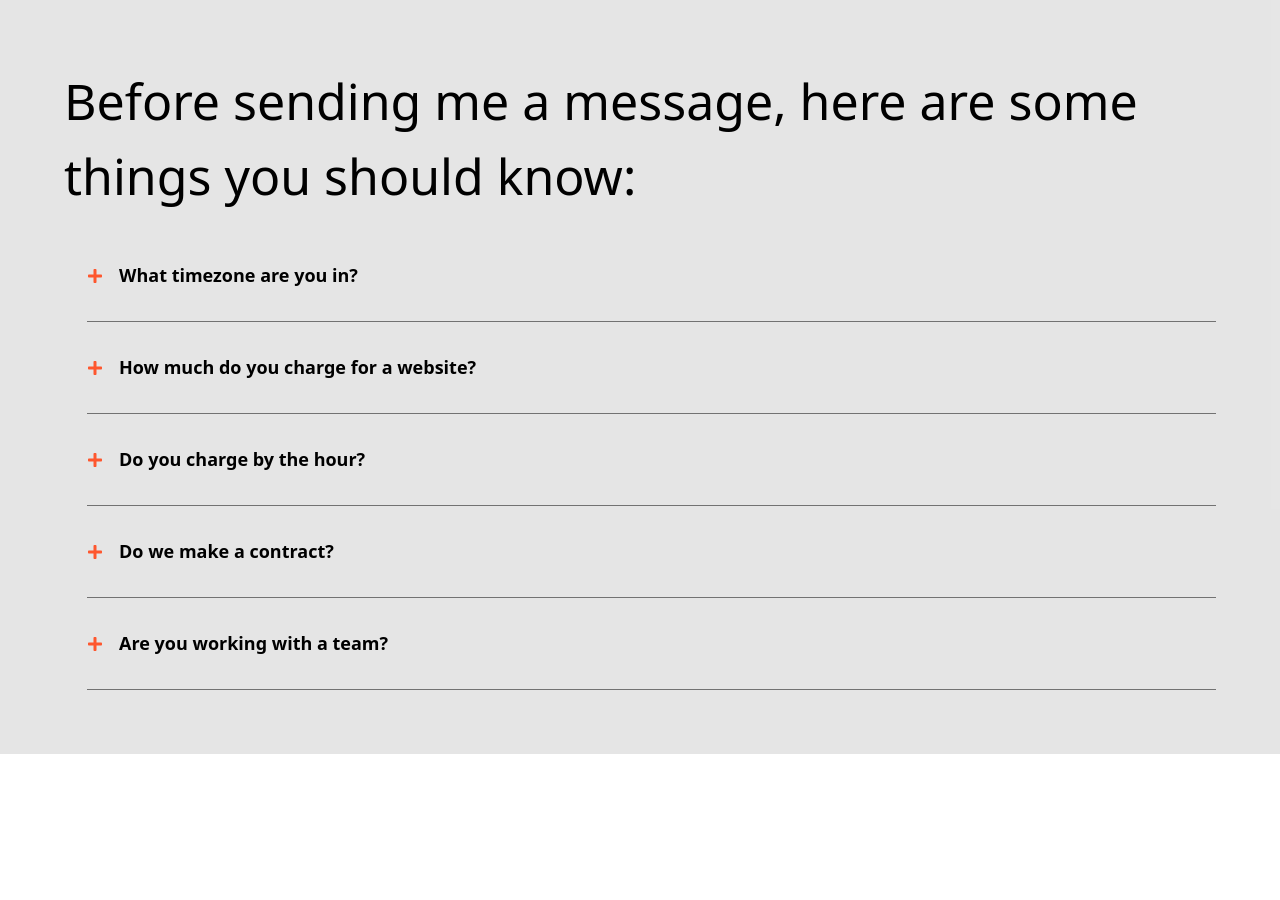
Test: FQA Component › should toggle answer on question click
This screenshot has width=1280, height=900.
Expected: the text "My pricing varies" is not shown
// Simulate click to open the answer
Click the text "How much do you charge for a website?".
click(298, 368)  # box 119,354 -> 476,381
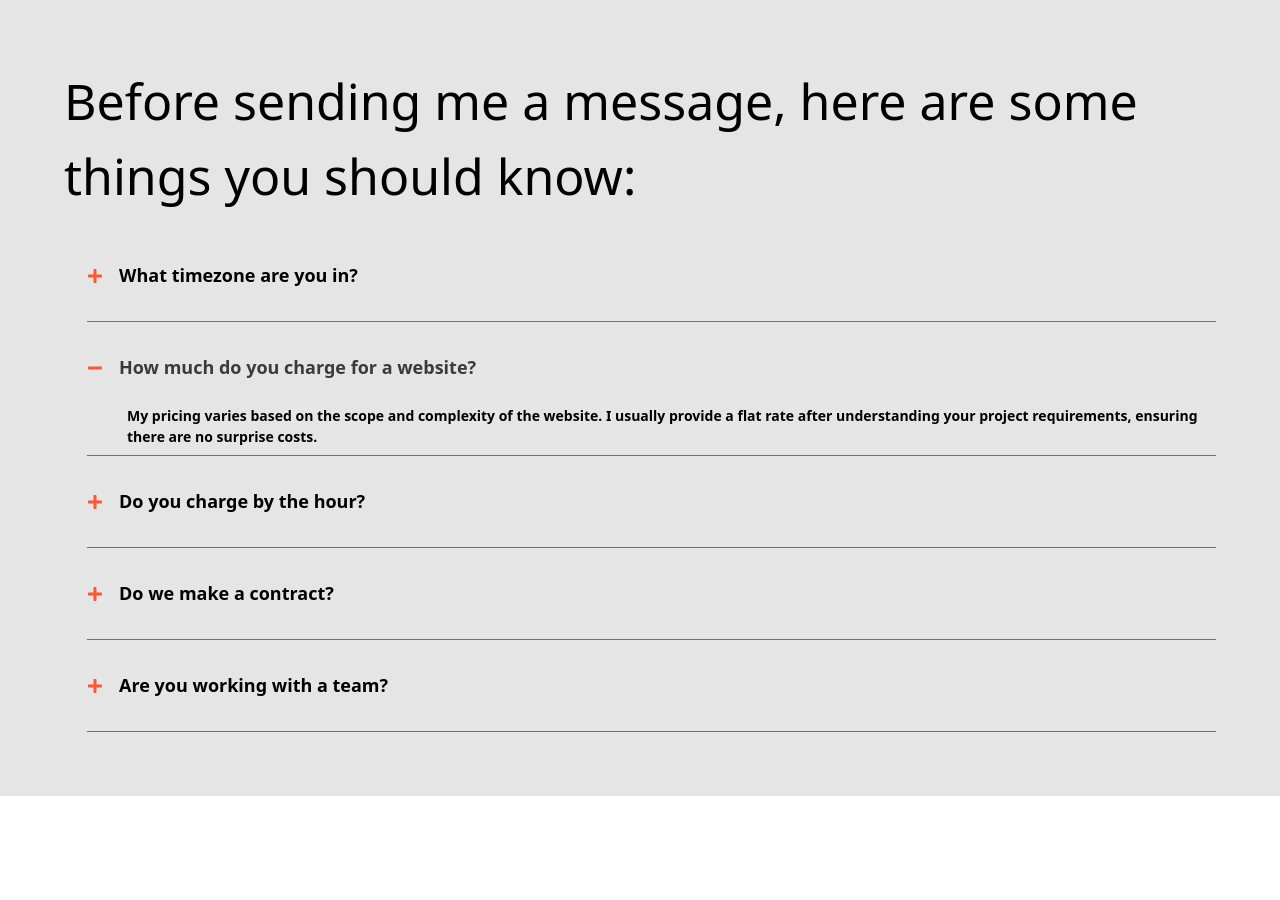
Expected: the text "My pricing varies" is shown, 127,406 -> 1198,446
// Simulate a click again to close the answer
Click the text "How much do you charge for a website?".
click(298, 368)  # box 119,354 -> 476,381
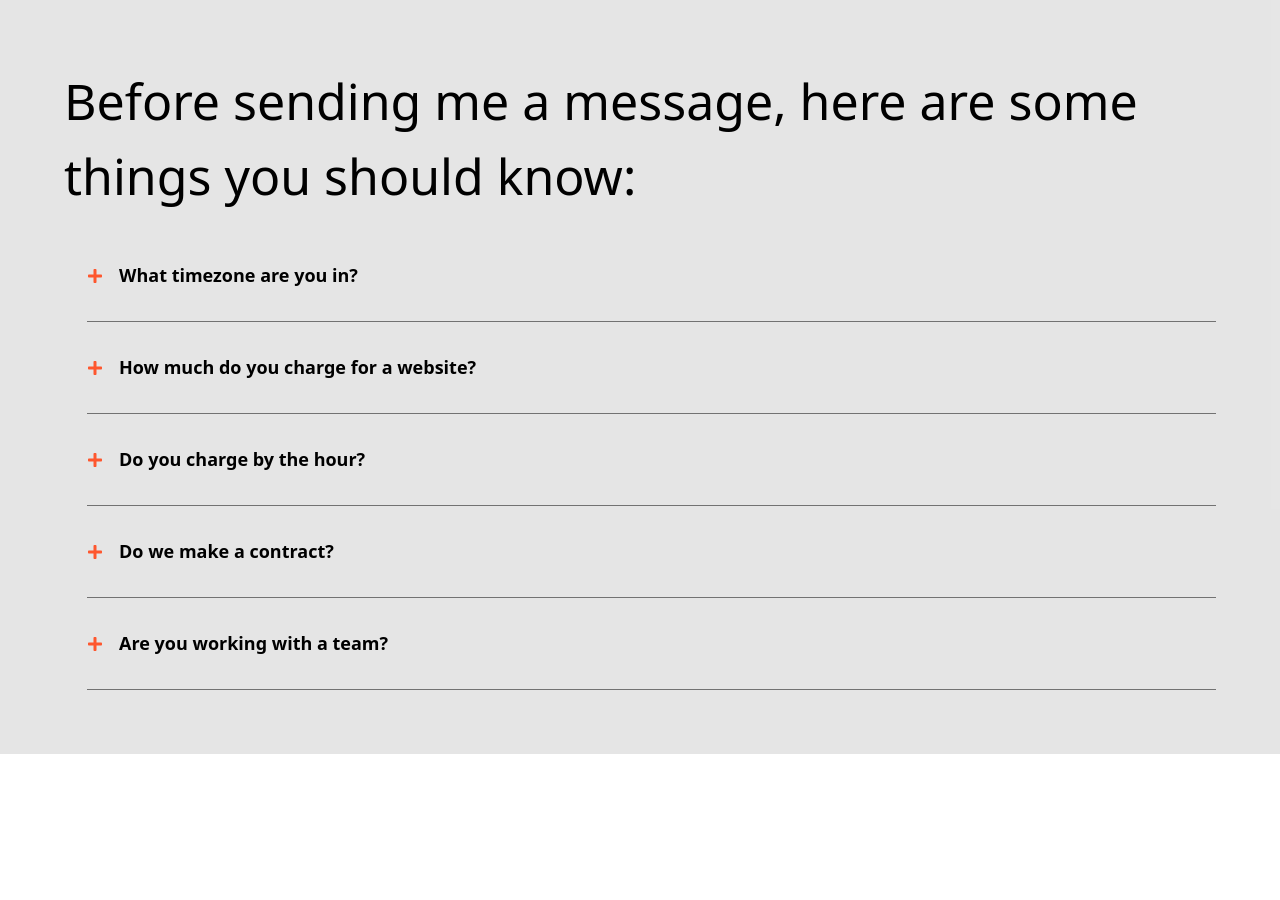
Expected: the text "My pricing varies" is gone
